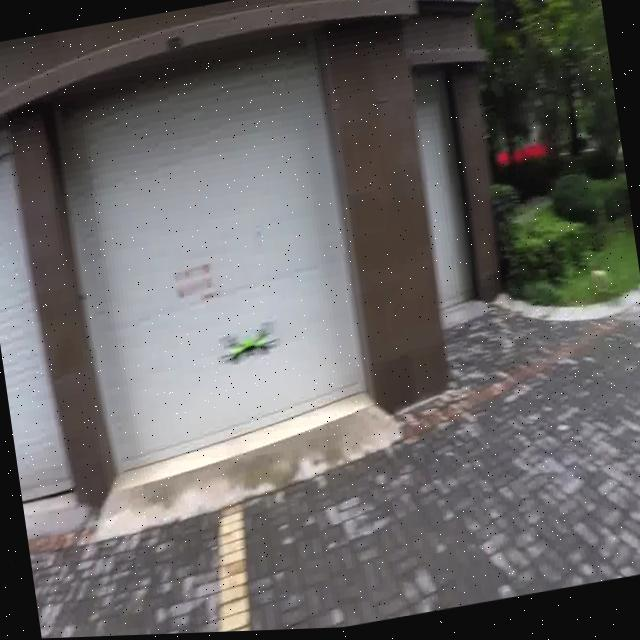drone: (210, 300, 293, 372)
